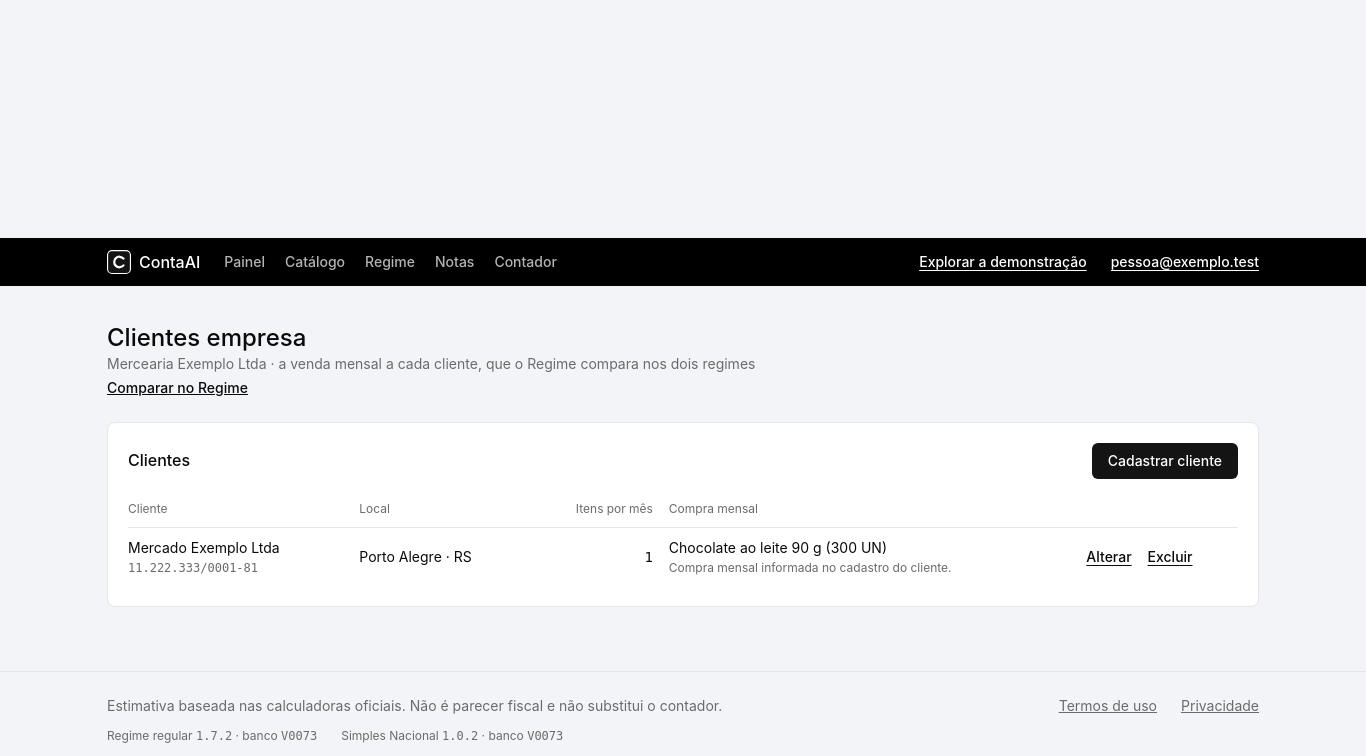
a página "Clientes empresa" › excluir confirma com o nome e manda o CNPJ da empresa
(page scrolled)
Click the button with aria-label "Excluir Mercado Exemplo Ltda".
click(1170, 557)  # box [1148,547,1192,567]
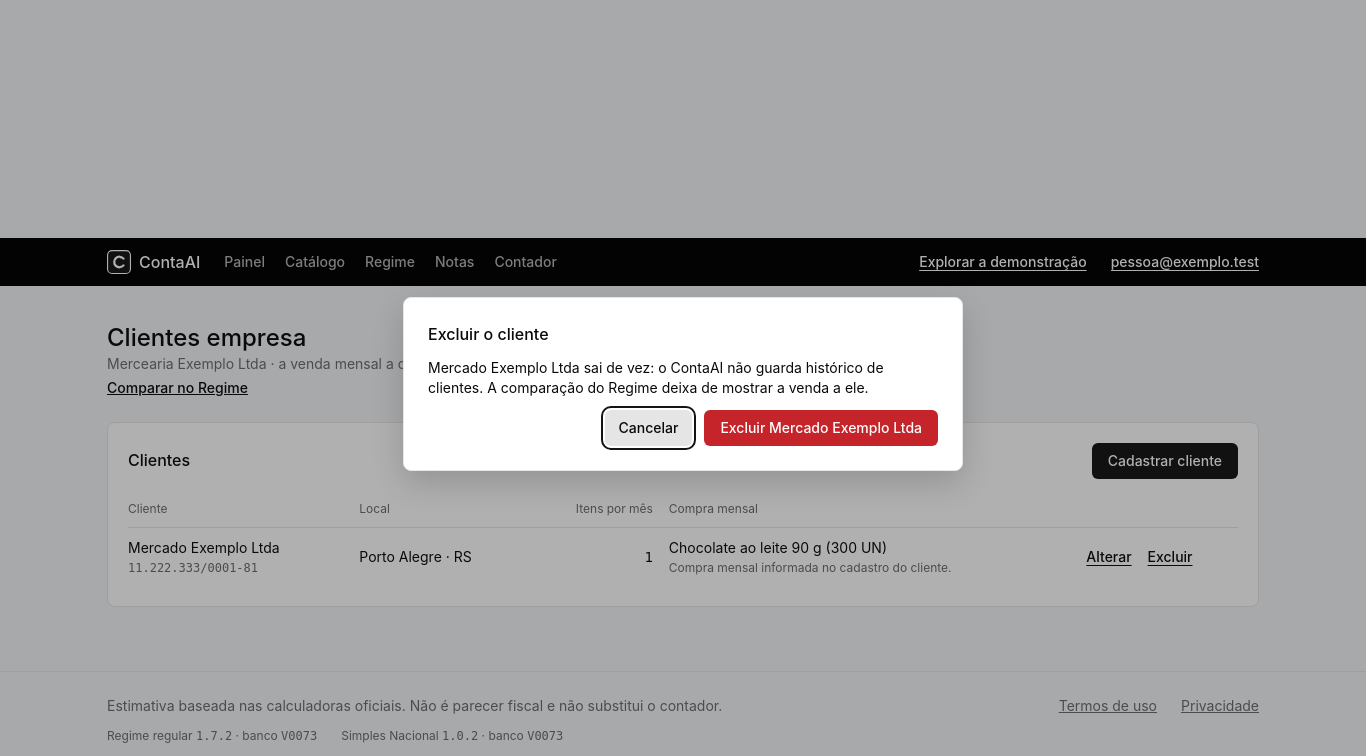
Result: the text "não guarda histórico de clientes" is shown at [428,359,884,396]
Click the button "Excluir Mercado Exemplo Ltda".
click(821, 428)  # box [704,410,938,446]
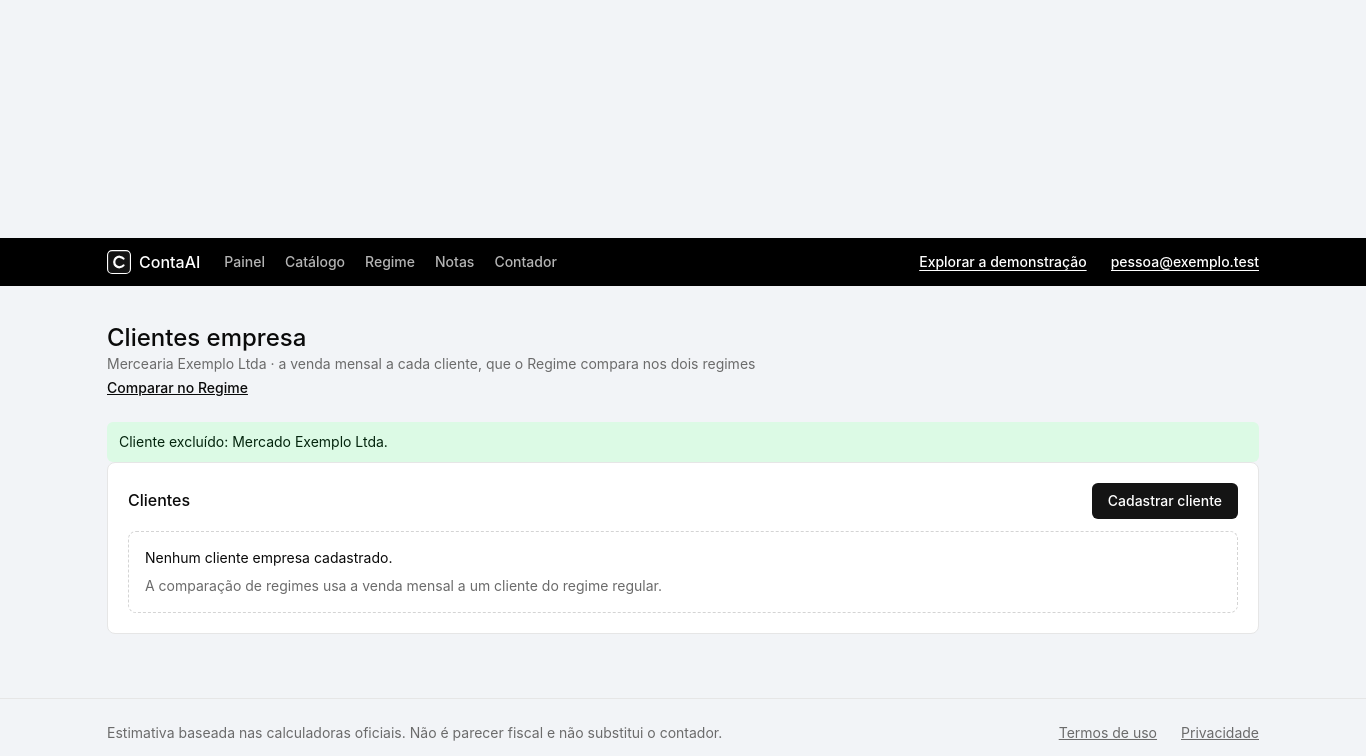
Result: the text "Cliente excluído: Mercado Exemplo Ltda." is shown at [107,422,1259,462]
Result: the text "Nenhum cliente empresa cadastrado." is shown at [145,549,392,566]
